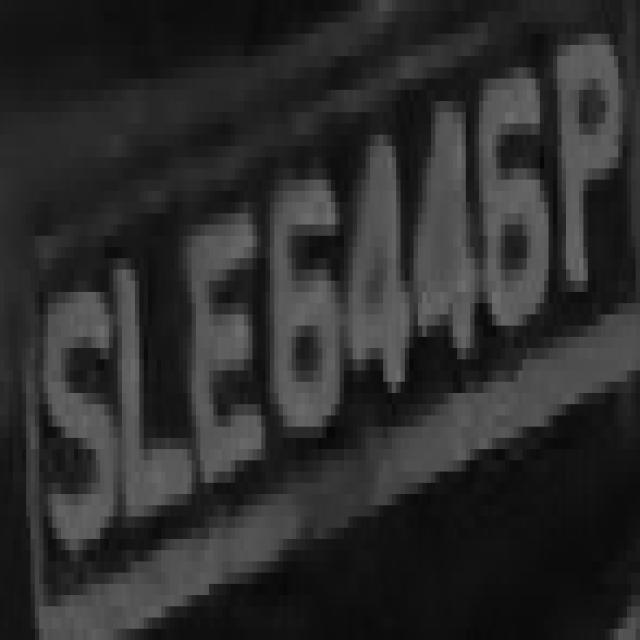4: (331, 134, 409, 426), (401, 101, 470, 404)
6: (257, 146, 344, 460), (474, 68, 553, 360)
E: (183, 191, 270, 505)
L: (100, 214, 196, 550)
P: (540, 34, 631, 348)
S: (17, 258, 109, 562)
